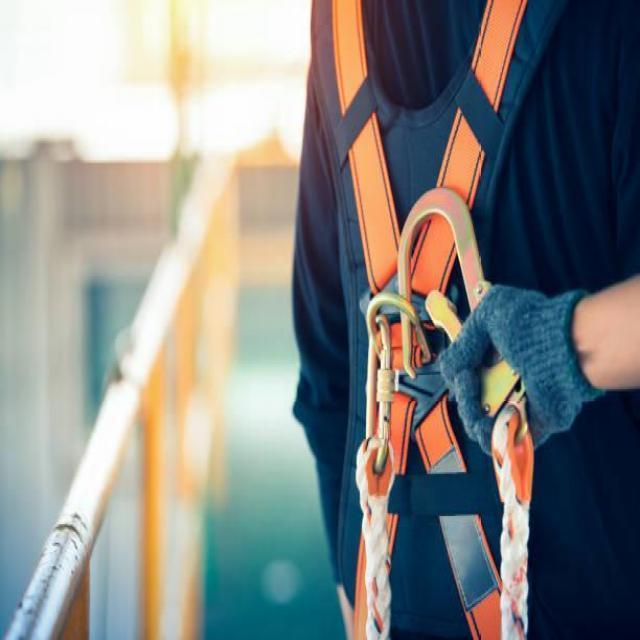Harness: (332, 0, 536, 640)
